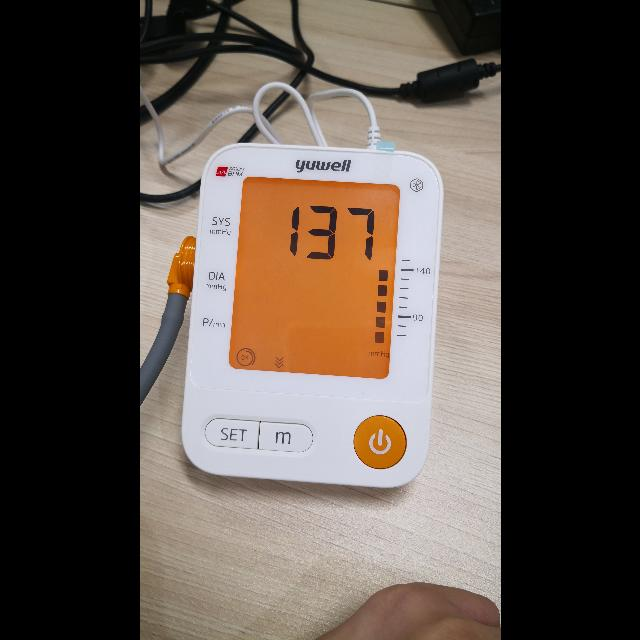Blood-Pressure-Monitor: (182, 144, 442, 488)
